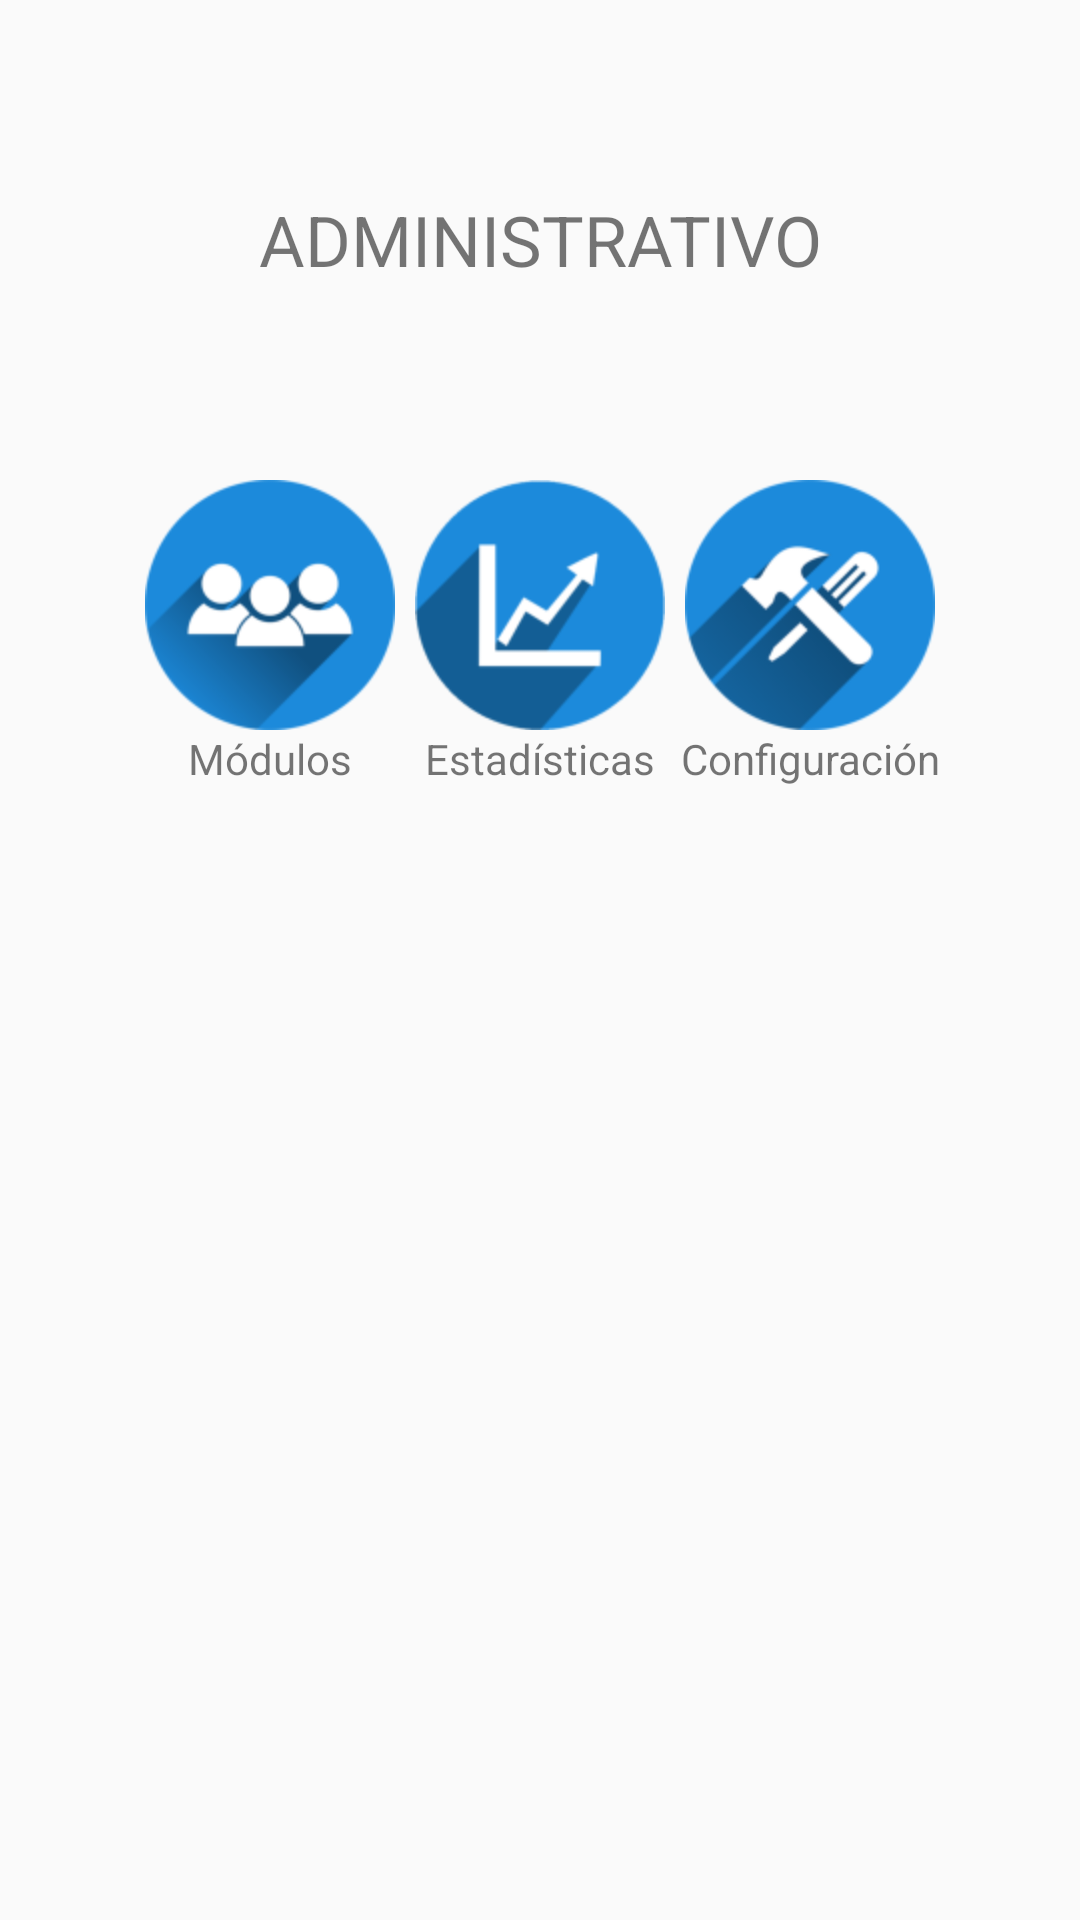

Named icons in this screenshot (1080*1920) and their centers, point (x, y):
grupo: point (270, 605)
